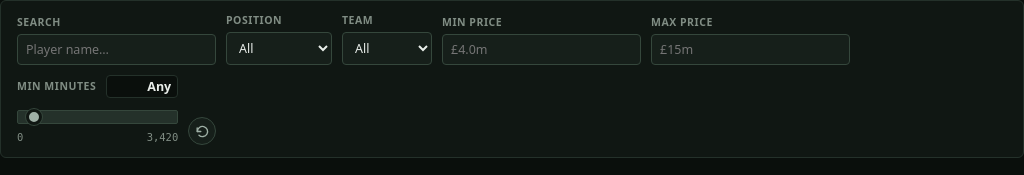
FiltersBar — in a dialog, Min minutes is a slider that can still be typed › the slider steps by whole matches and shows the figure beside it
Expected: the number field with id "t-min-minutes" is empty, [106,75,178,98]
Step 1. Set the slider named "Min minutes" to "900" → [63, 117], box [17,110,178,124]
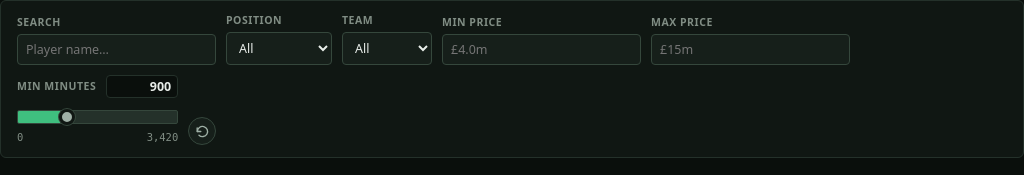
Result: the number field with id "t-min-minutes" holds "900" at [106,75,178,98]
